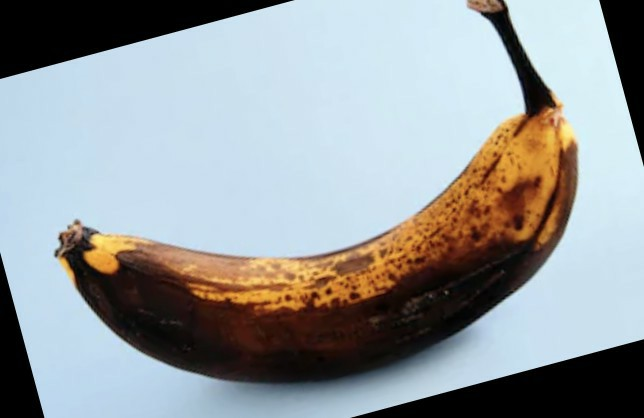rotten_banana: (63, 2, 578, 382)
